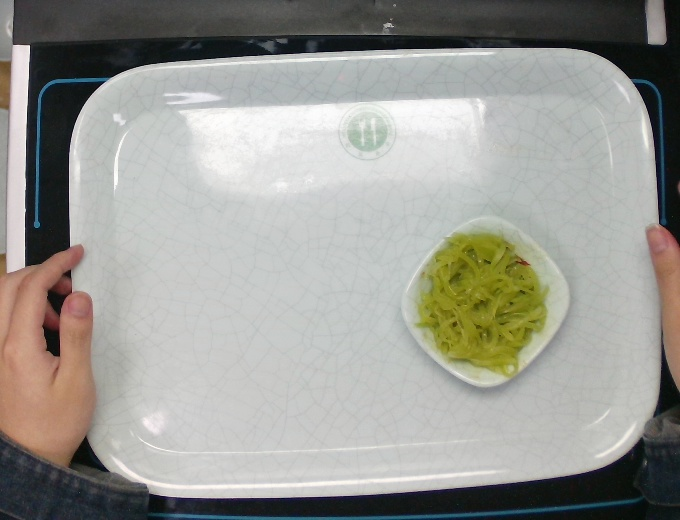JYsf-Si_Fang_Die: (400, 211, 573, 389)
